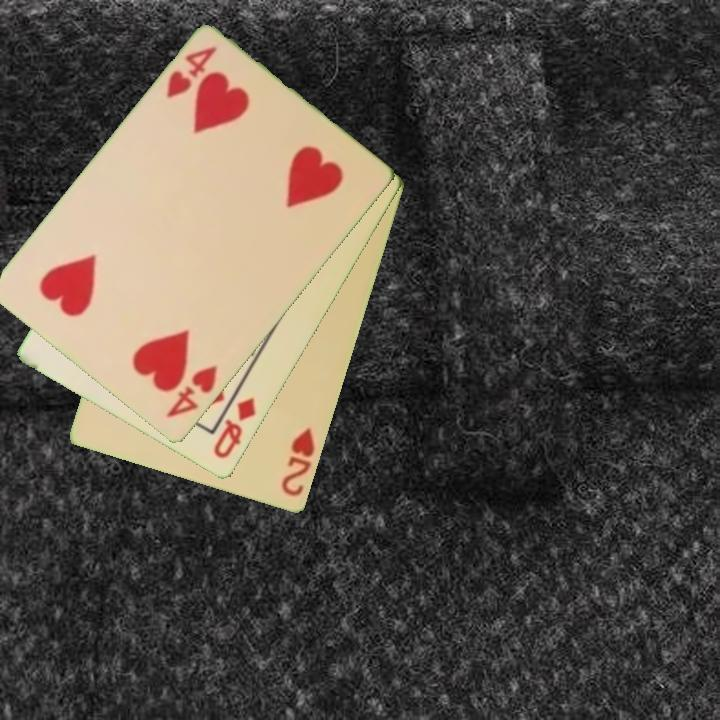2h: (278, 425, 319, 500)
4h: (162, 362, 221, 422), (162, 43, 220, 102)
Qd: (210, 393, 259, 462)
